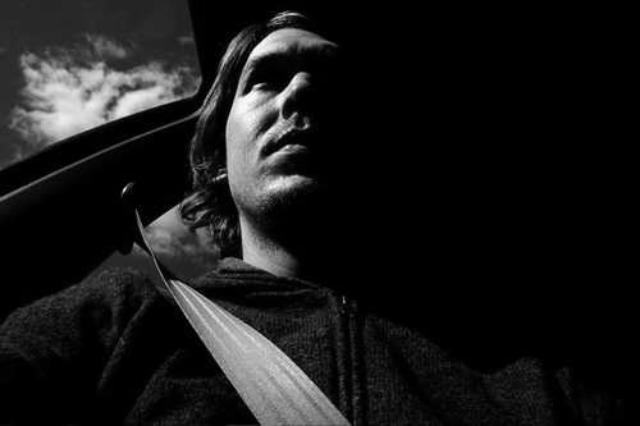Seatbelt: (117, 178, 357, 426)
